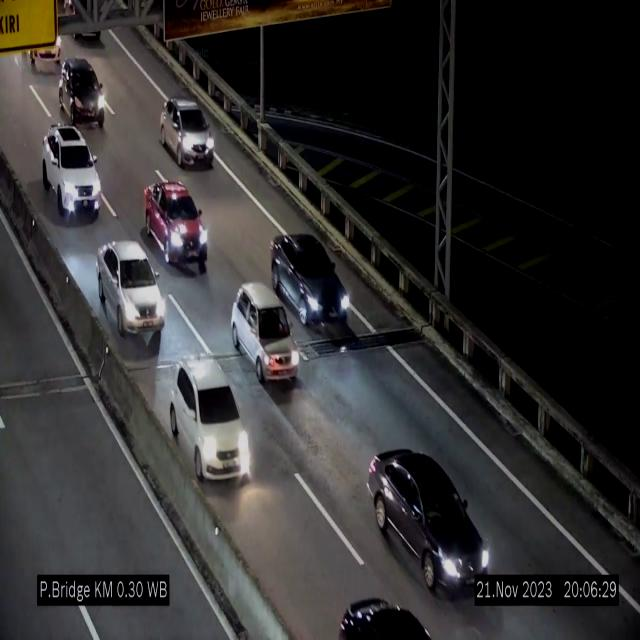Car: (368, 444, 488, 606), (163, 360, 253, 493), (271, 230, 355, 336), (93, 240, 167, 346), (231, 283, 298, 383), (145, 181, 207, 271), (43, 124, 101, 218), (334, 595, 431, 640), (51, 52, 108, 128), (160, 99, 214, 168), (28, 20, 70, 70)
